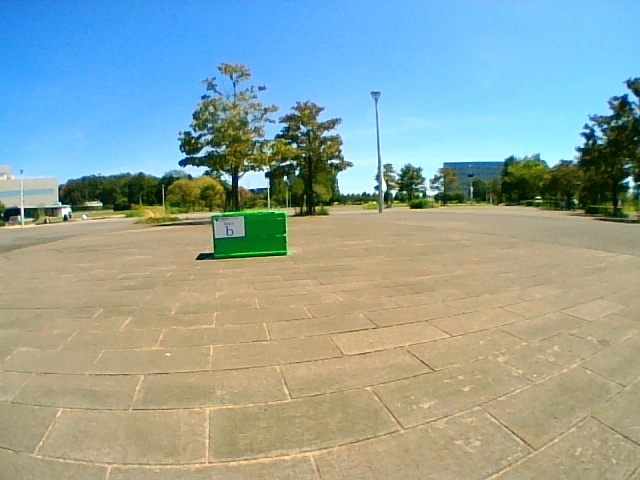green_box: (211, 211, 288, 257)
tag_b: (215, 217, 243, 237)
